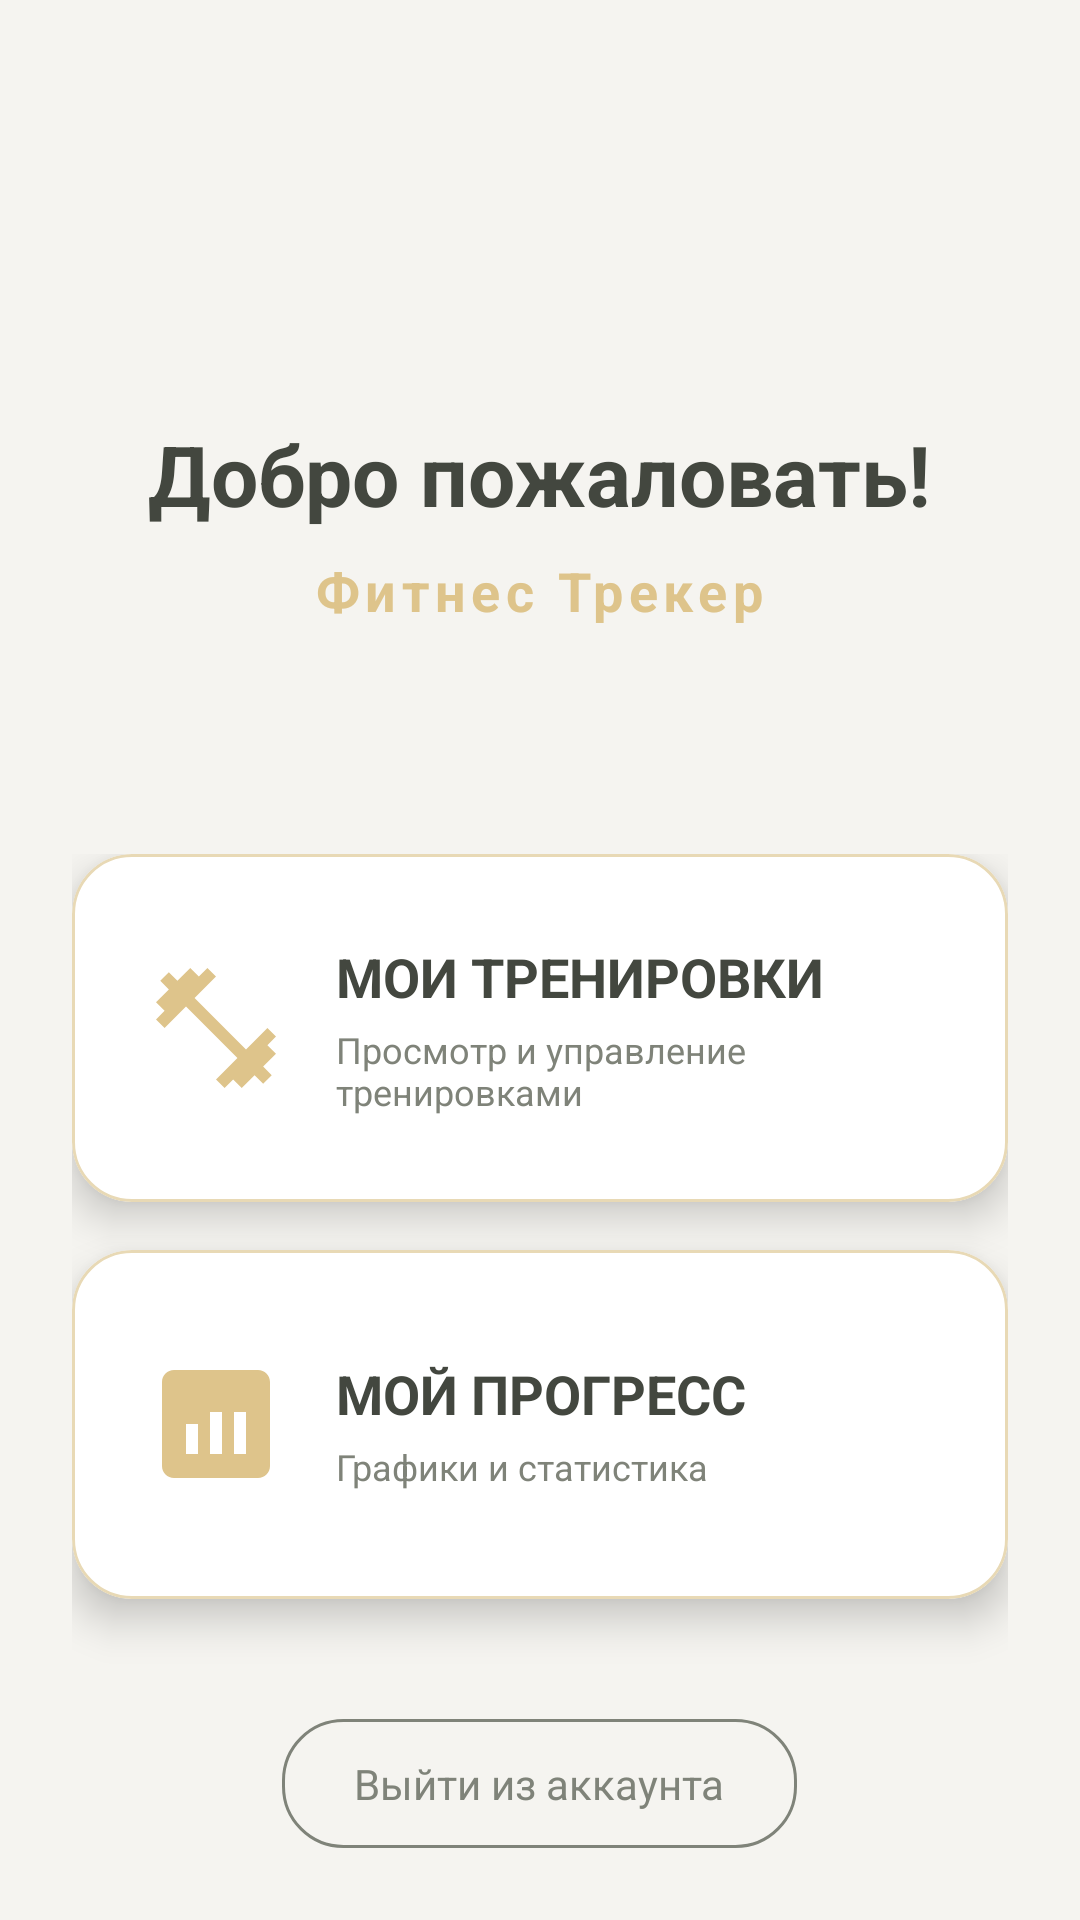

Icons on this 1080×1920 Android screen, each with the point to tap as (x,y):
chart main: (216,1424)
dumbbell main: (216,1028)
